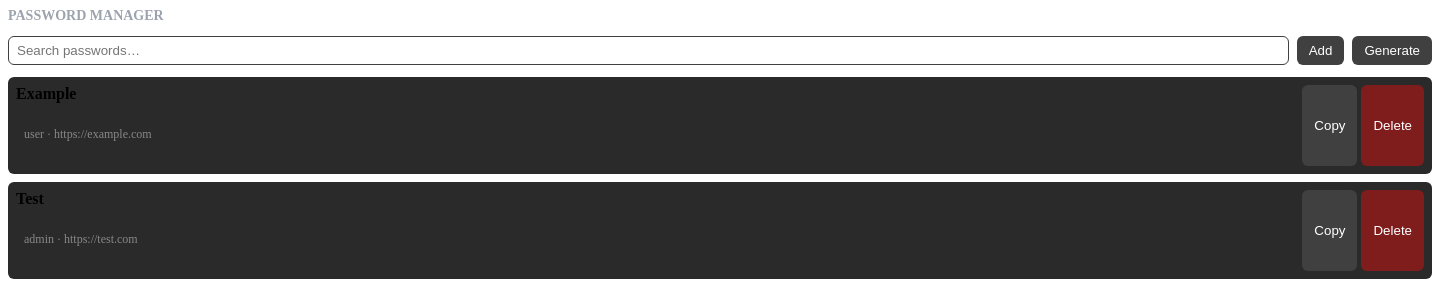
Test: PasswordManagerSettings › filters passwords by search query
In the search field with placeholder "Search passwords…": (648, 50) [8,36,1289,65], type "example"
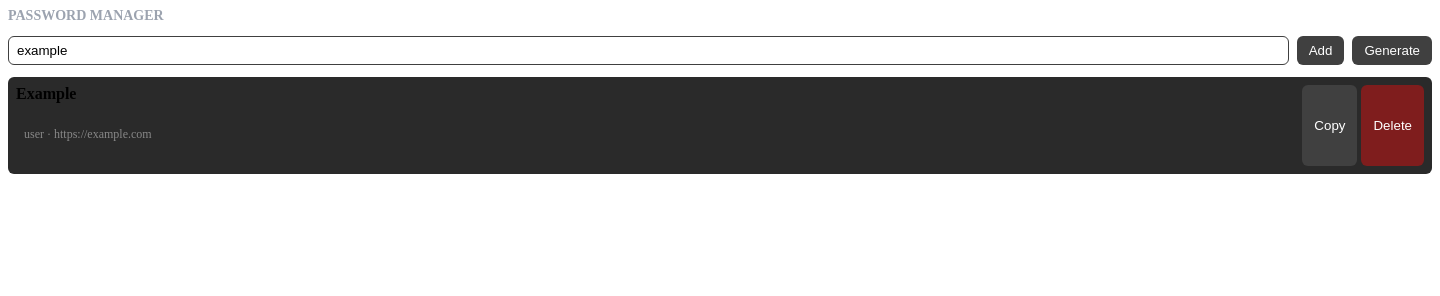
Expected: the number of list items is 1, [8,77,1432,174]
